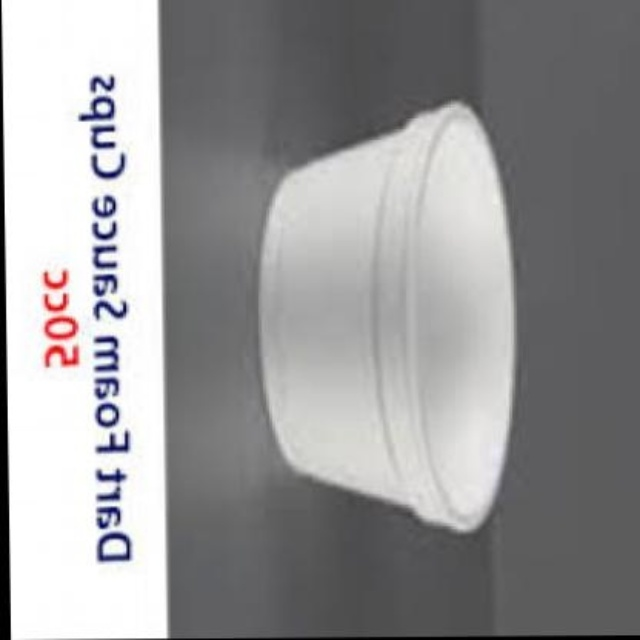trash: (260, 102, 512, 531)
